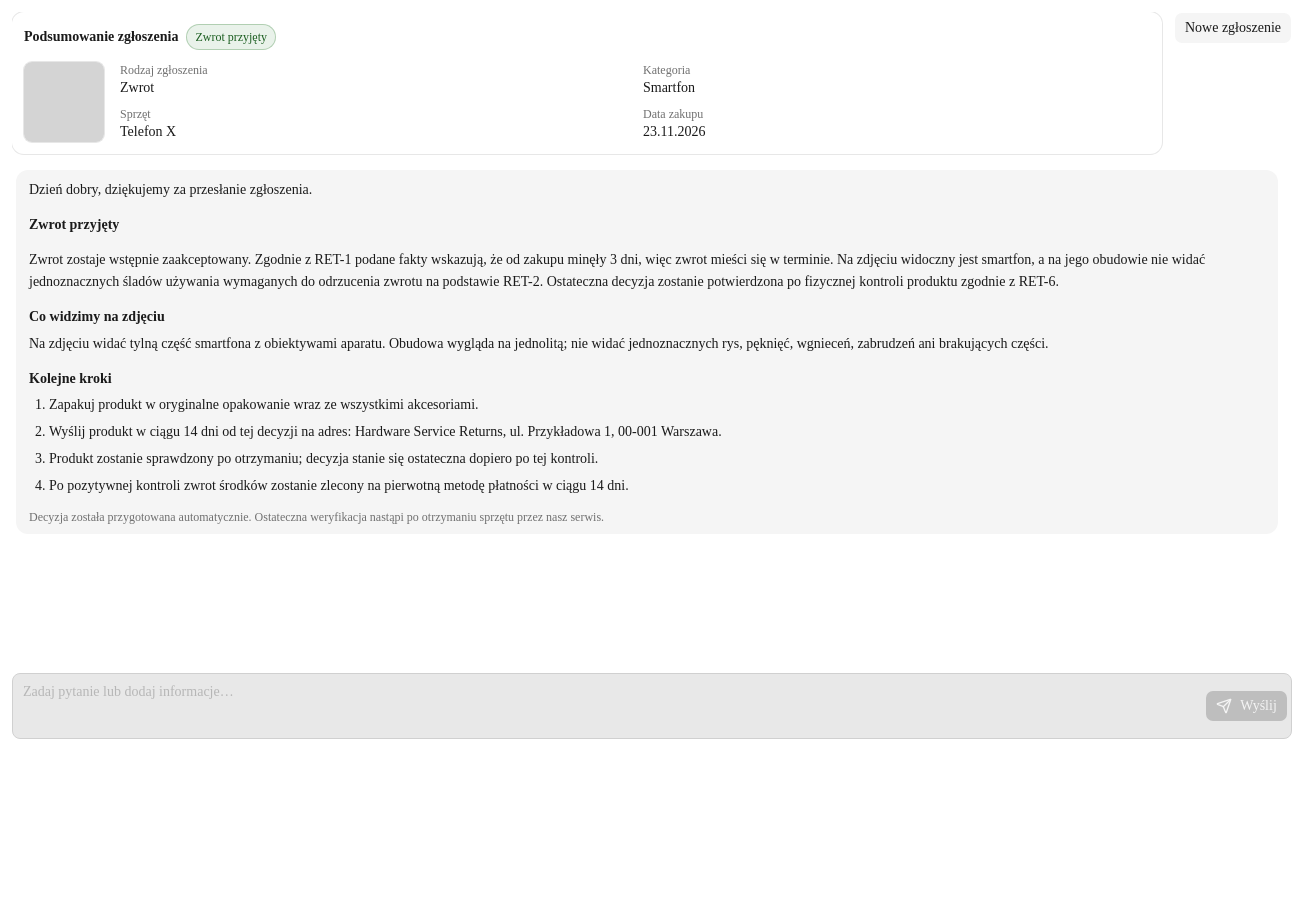
Test case: ChatScreen with real API captures › f-chat-new-fact: decision header and notice, summary badge updated, decisionChanged once (AC-33)
In the text box with placeholder "Zadaj pytanie lub dodaj informacje…": (609, 706) [13,674,1205,738], type "Telefon mi spadł i ma pęknięty ekran."
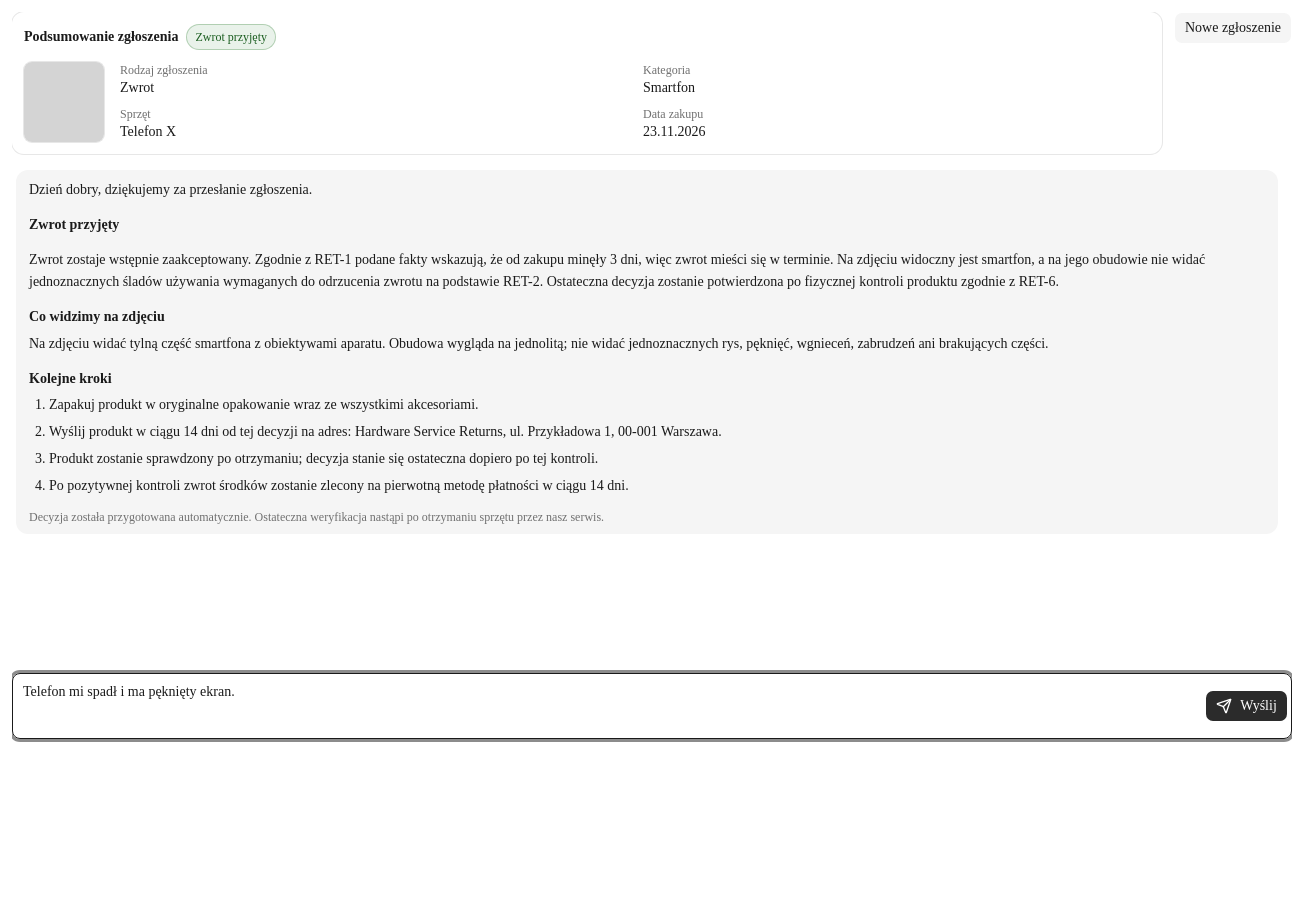
Click the button "Wyślij": (1247, 706) [1205,690,1288,722]
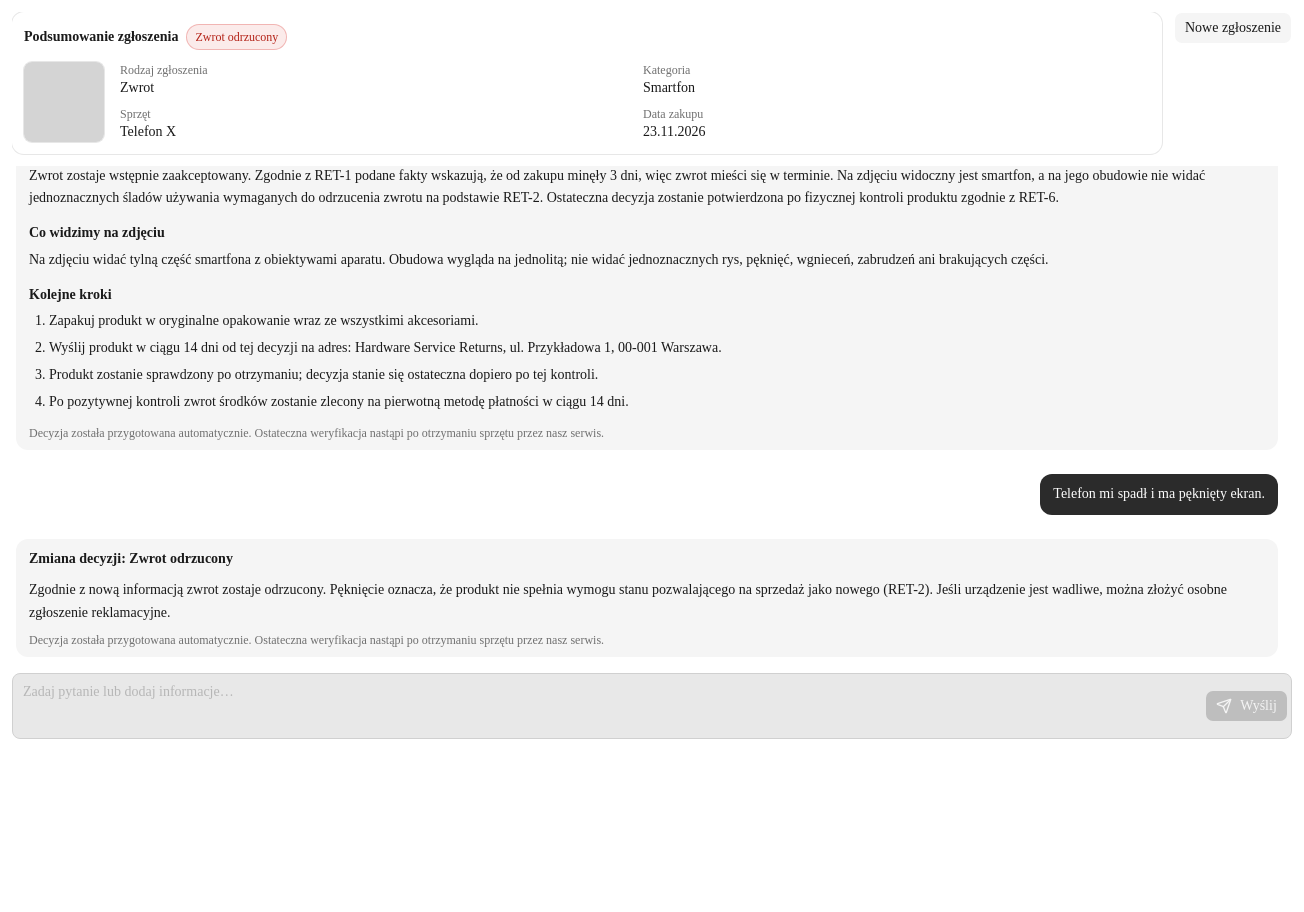
Expected: the text "Zwrot odrzucony" is shown, [186,24,287,50]
Expected: the number of elements with test id "decision-change" is 1, [29,551,233,566]
